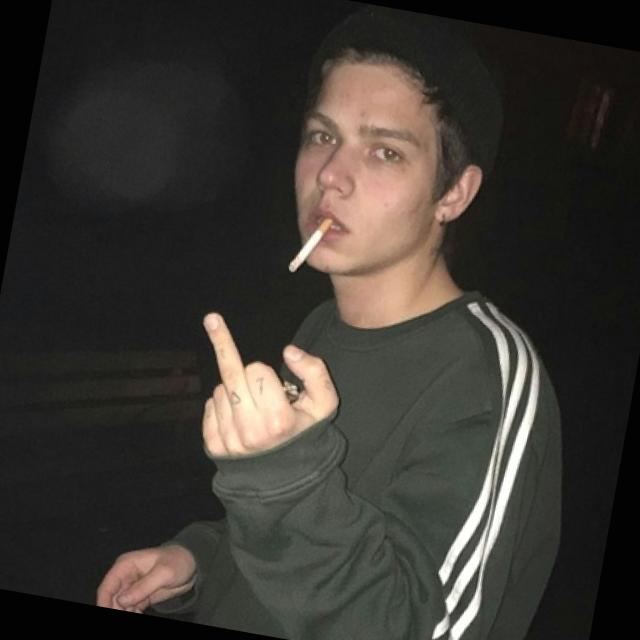cigarette: (280, 207, 338, 286)
